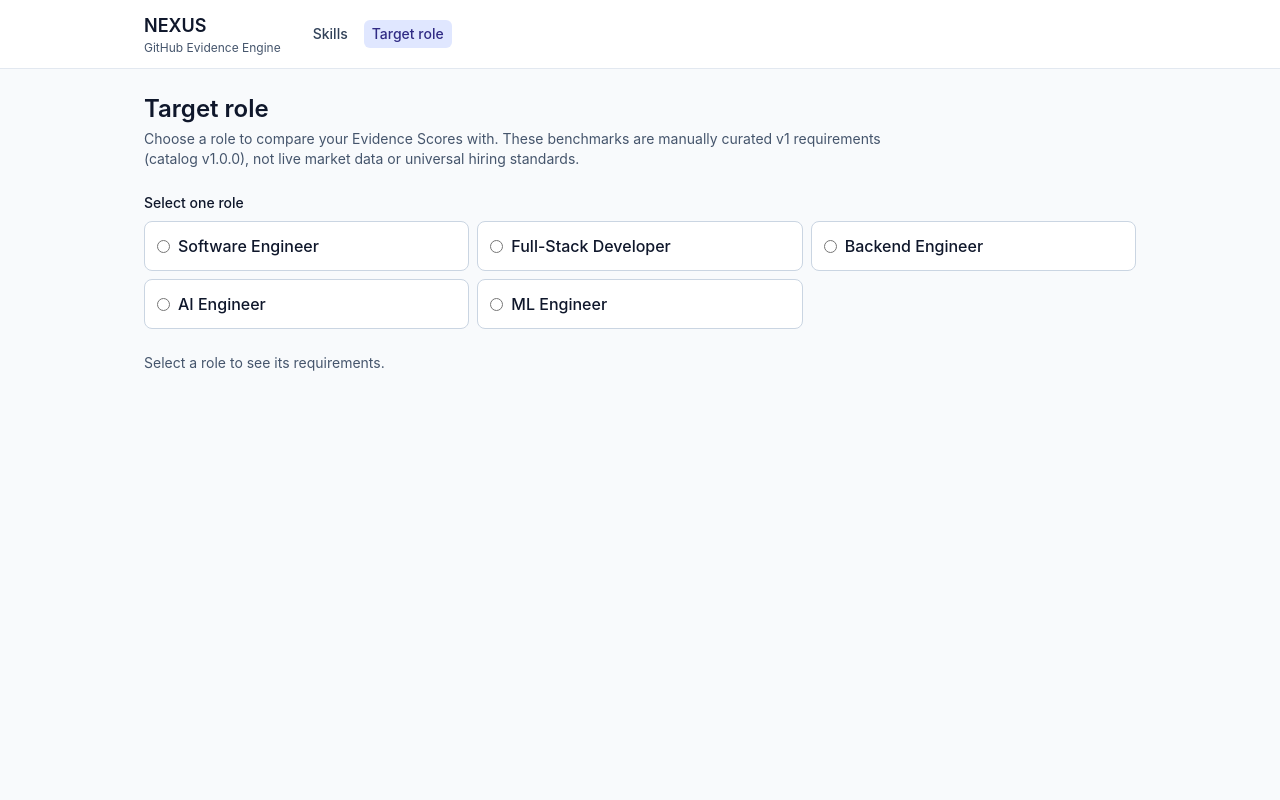
it: role selection and gap analysis (real App, stubbed network) › explains a missing analysis and reports other failures
The width and height of the screenshot is (1280, 800).
Expected: the text "Select one role" is shown, [144, 193, 244, 213]
Click the radio button labelled "AI Engineer" at (164, 304), box [157, 298, 170, 310]
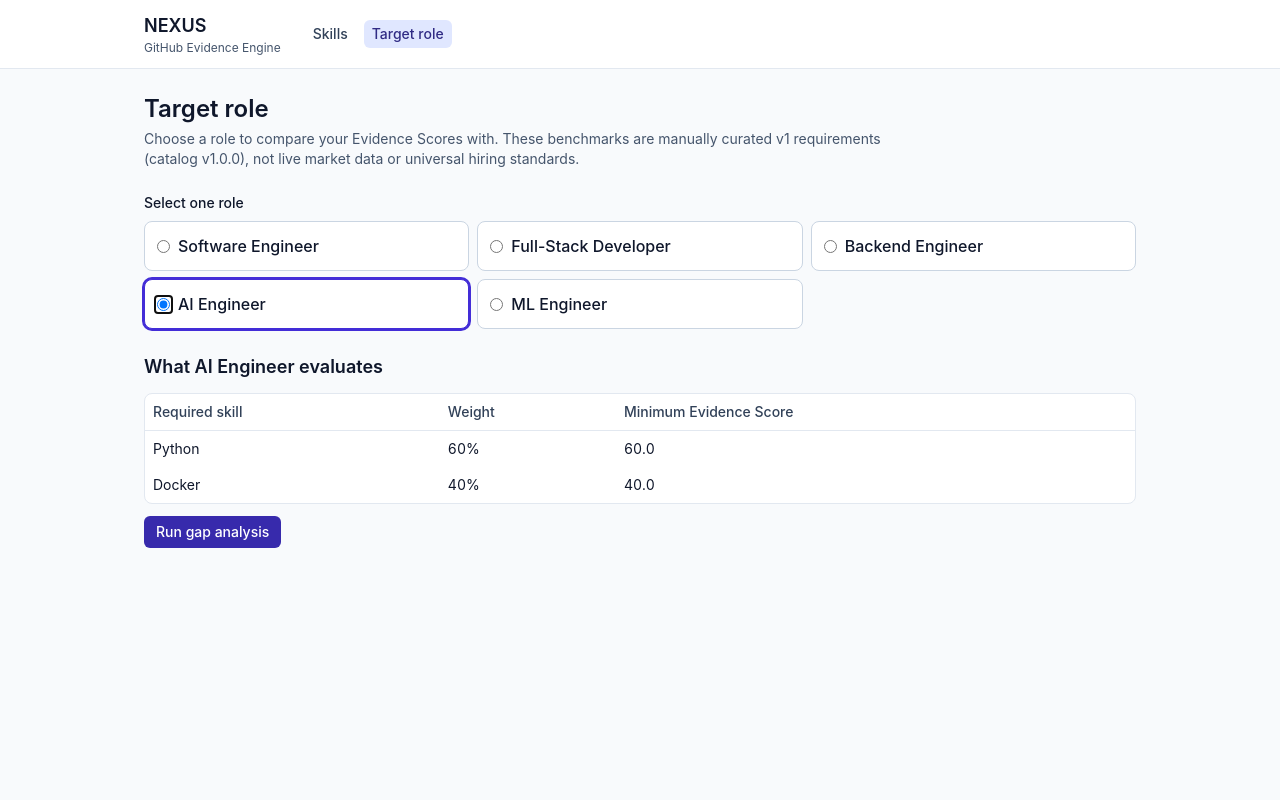
Click the button "Run gap analysis" at (213, 532), box [144, 516, 281, 548]
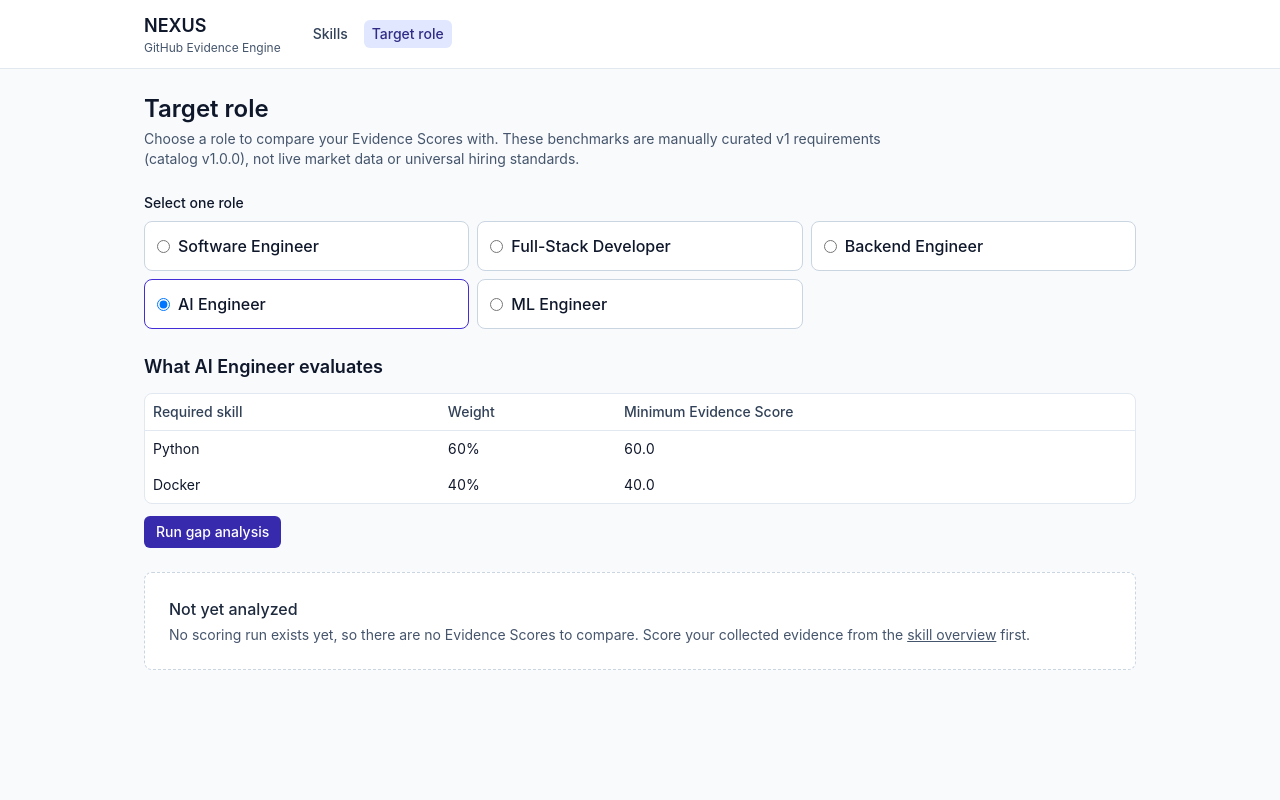
Expected: the text "Not yet analyzed" is shown, [169, 599, 298, 619]
Click the button "Run gap analysis" at (213, 532), box [144, 516, 281, 548]
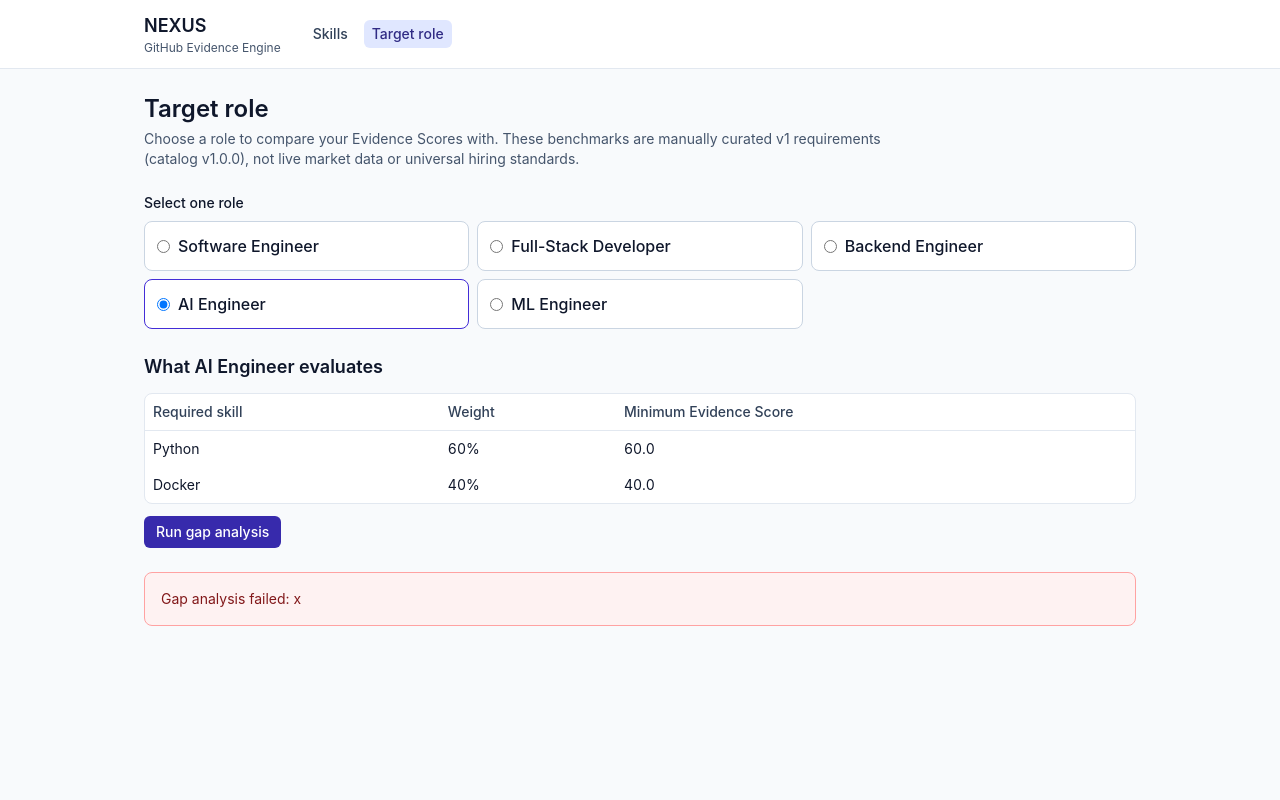
Expected: the message "Gap analysis failed: x" is shown, [144, 572, 1136, 626]
